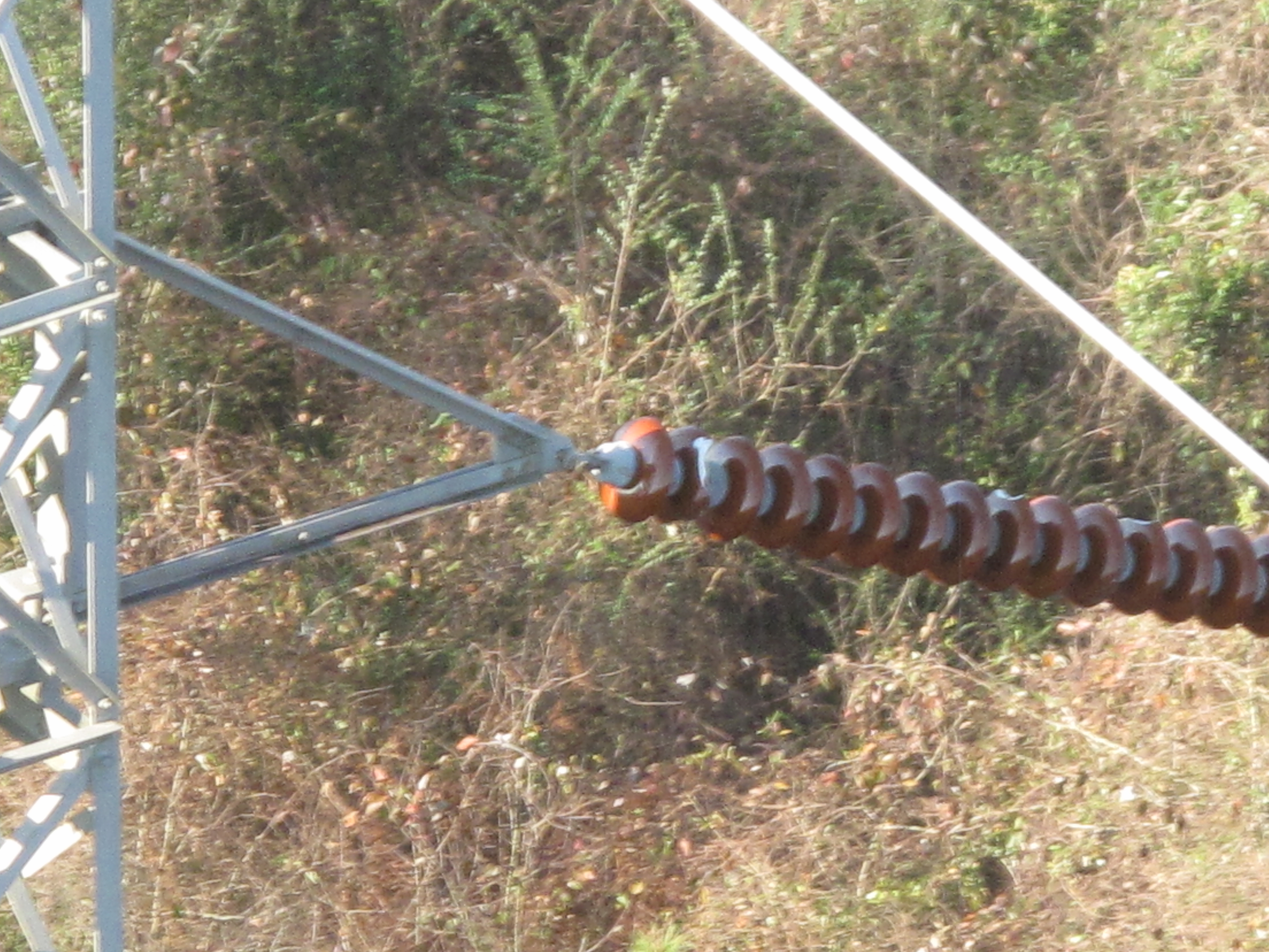damaged: (682, 427, 729, 508)
insulator: (603, 414, 1269, 638)
